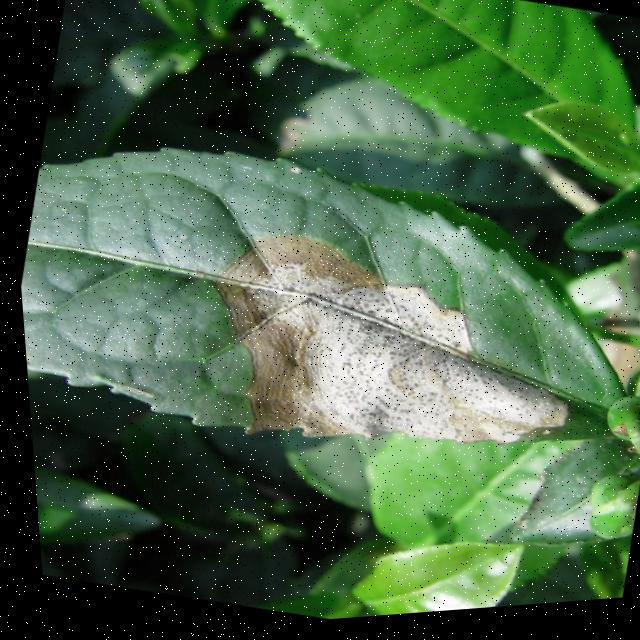Tea cloud leaf blight: (170, 198, 591, 513)
